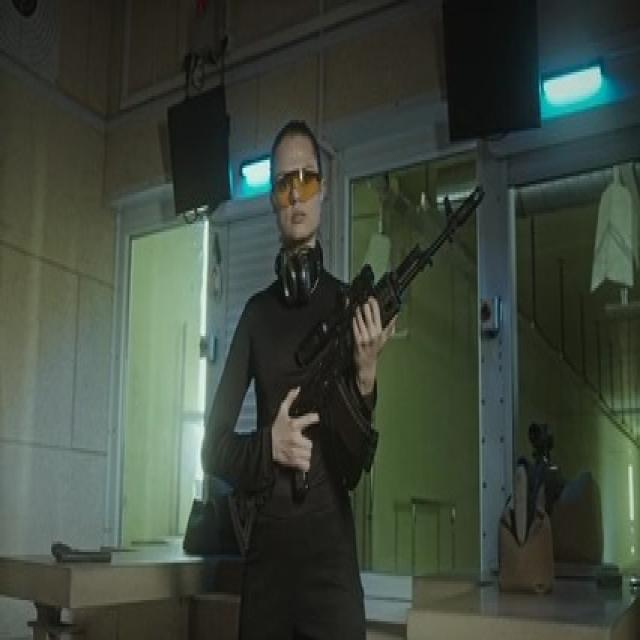Gun_Holder: (231, 176, 500, 481)
Person: (201, 107, 391, 640)
